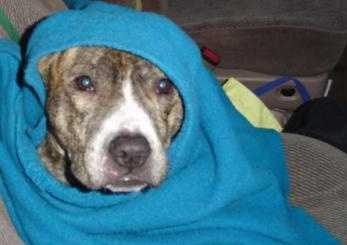dog: (0, 0, 206, 196)
